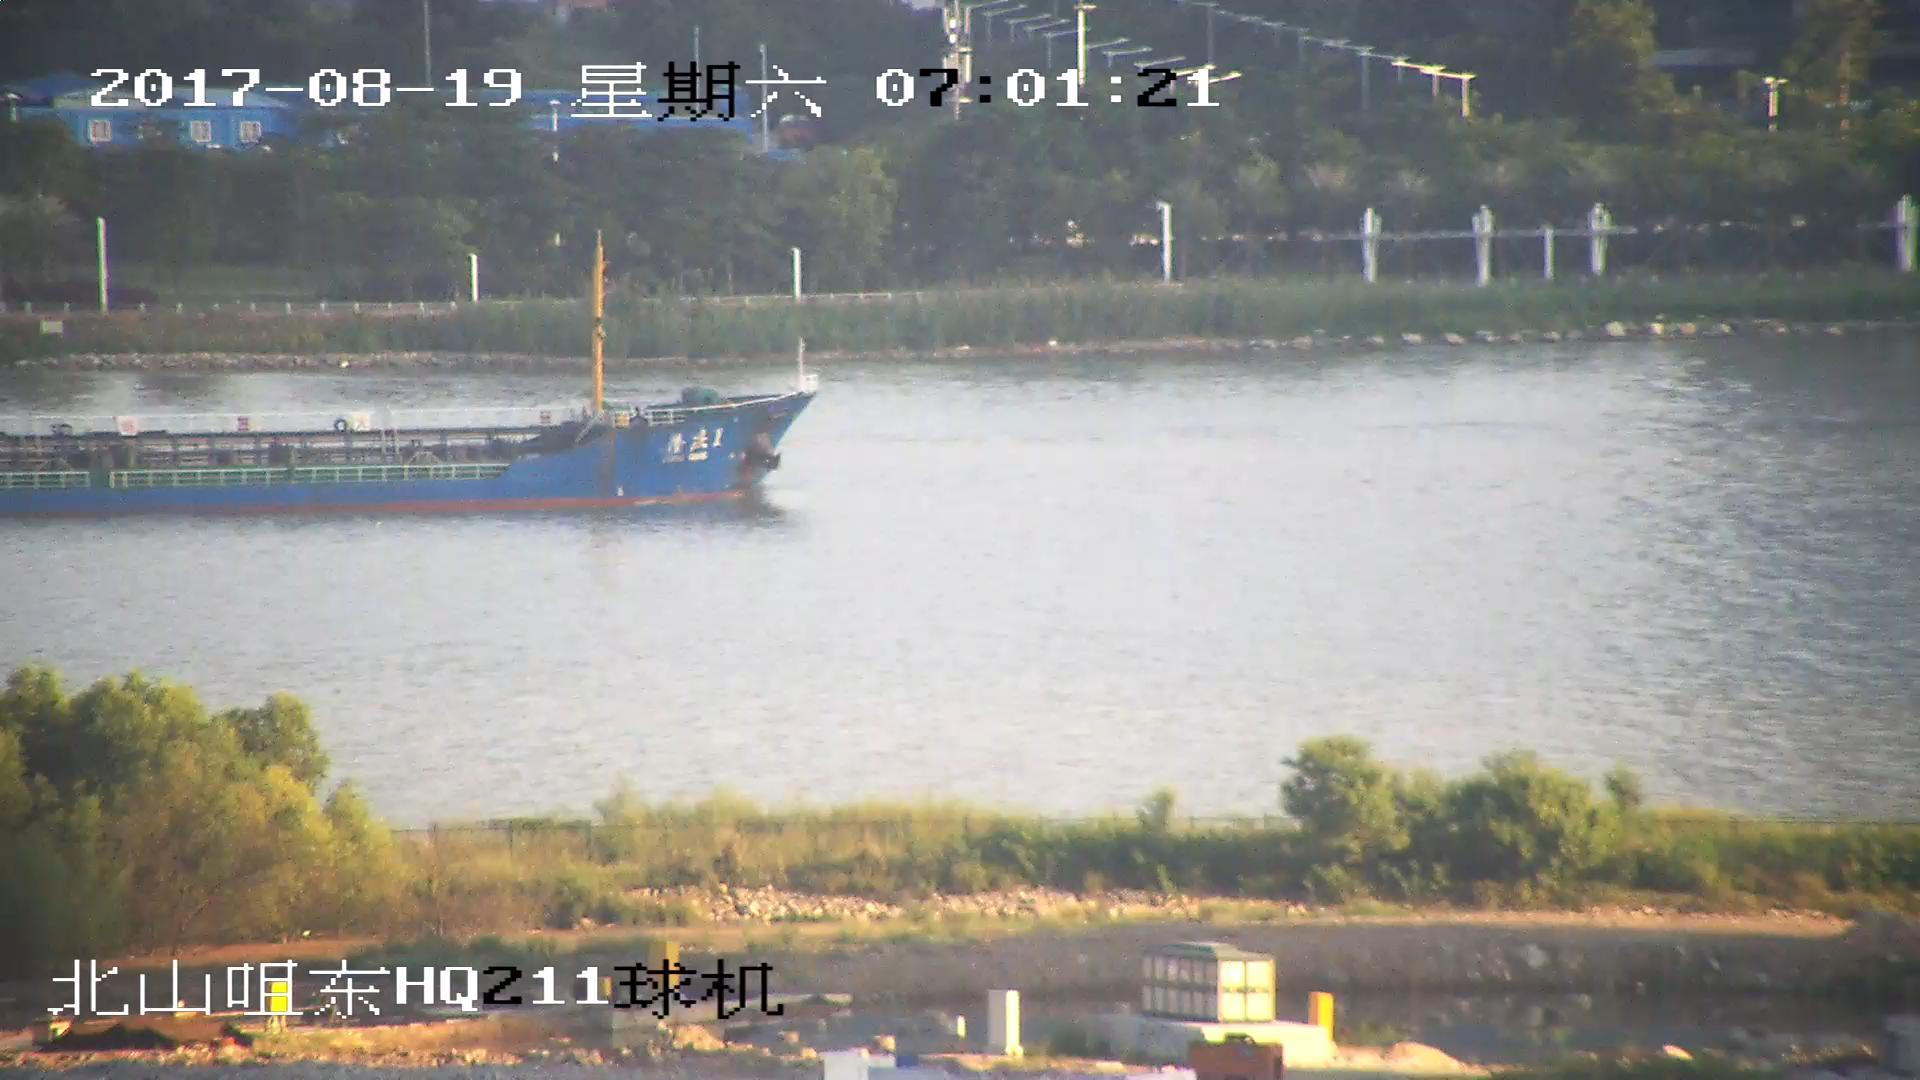Ship: (3, 241, 822, 520)
